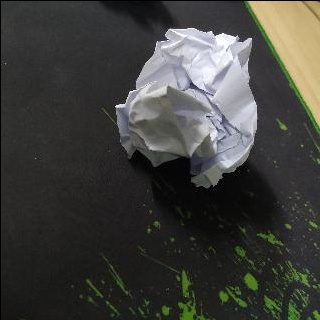8/可回收垃圾/纸: (115, 26, 259, 188)
